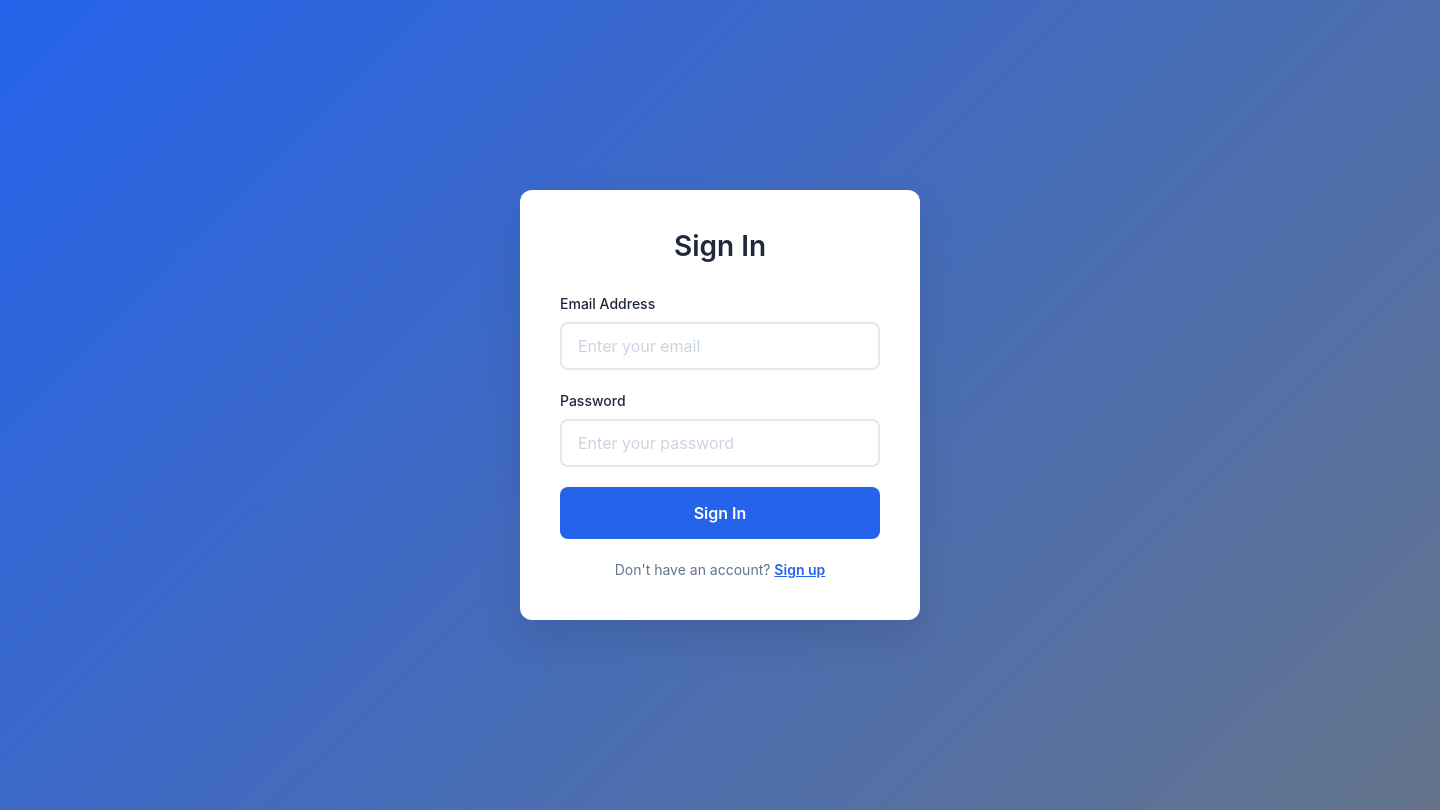
Test case: LoginPage › validates password strength on registration
Switch to register mode
Click the button "Sign up" at point(800, 570), box [774,561,825,578]
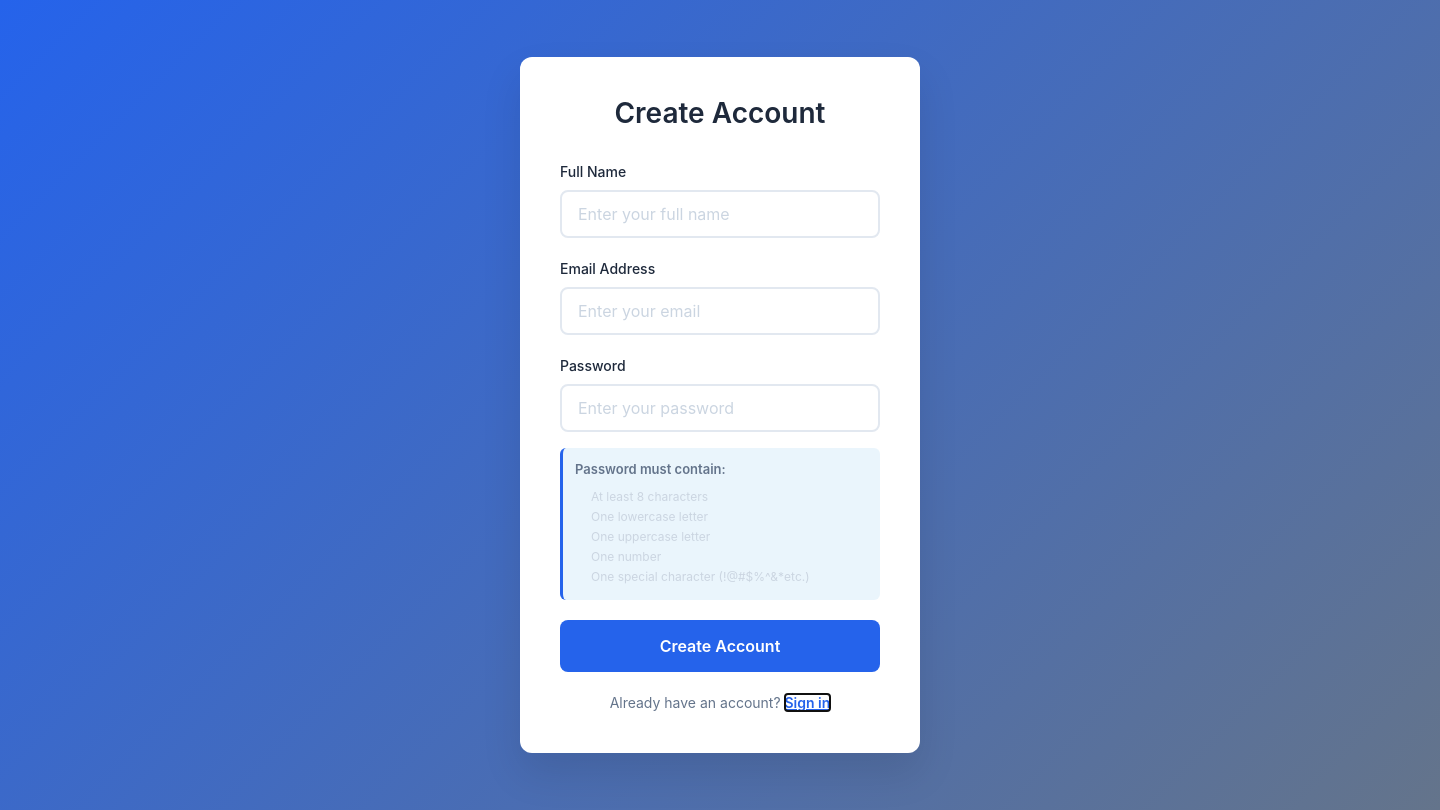
Type "John Doe" into the field labelled "Full Name" at point(720, 214), box [560,190,880,238]
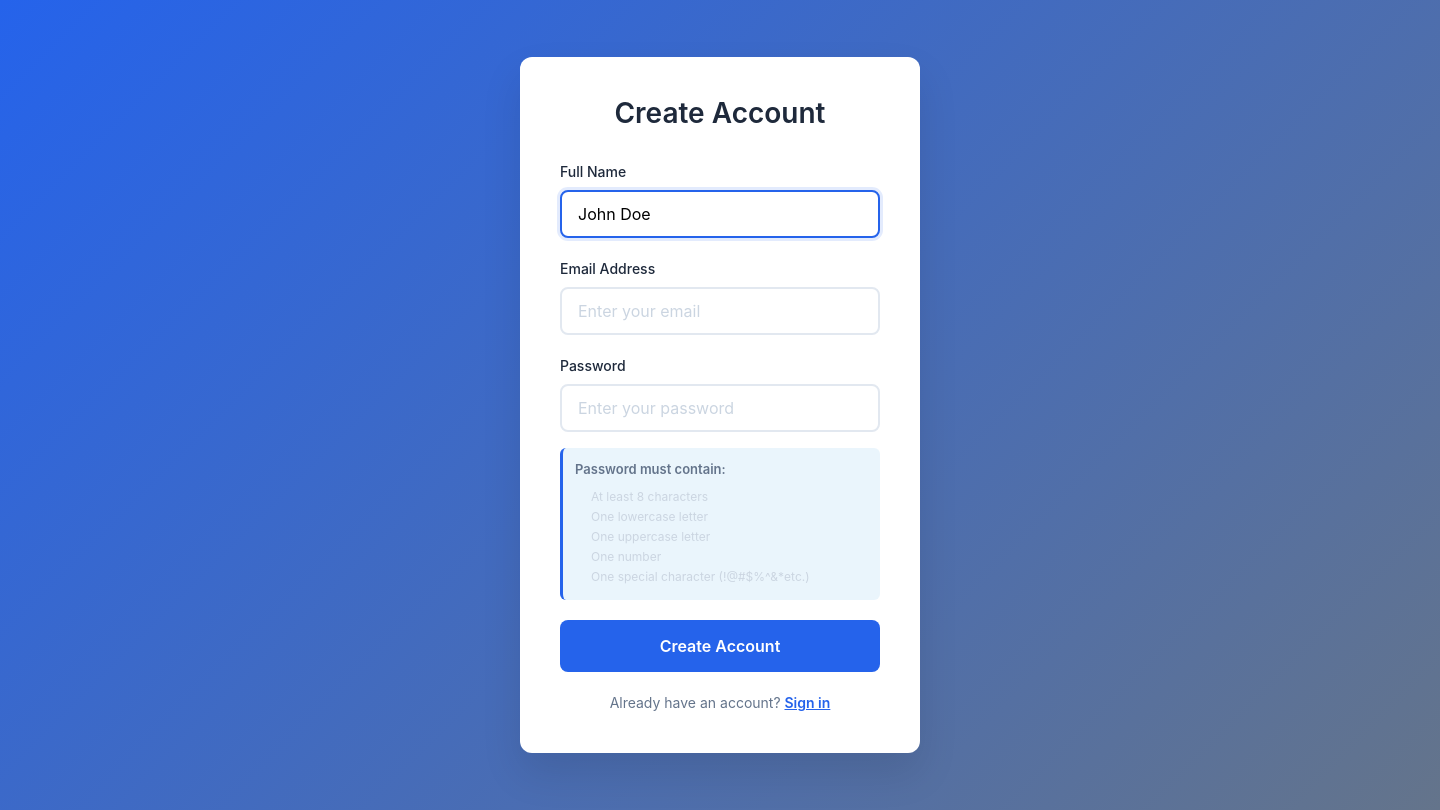
Type "john@example.com" into the field labelled "Email Address" at point(720, 311), box [560,287,880,335]
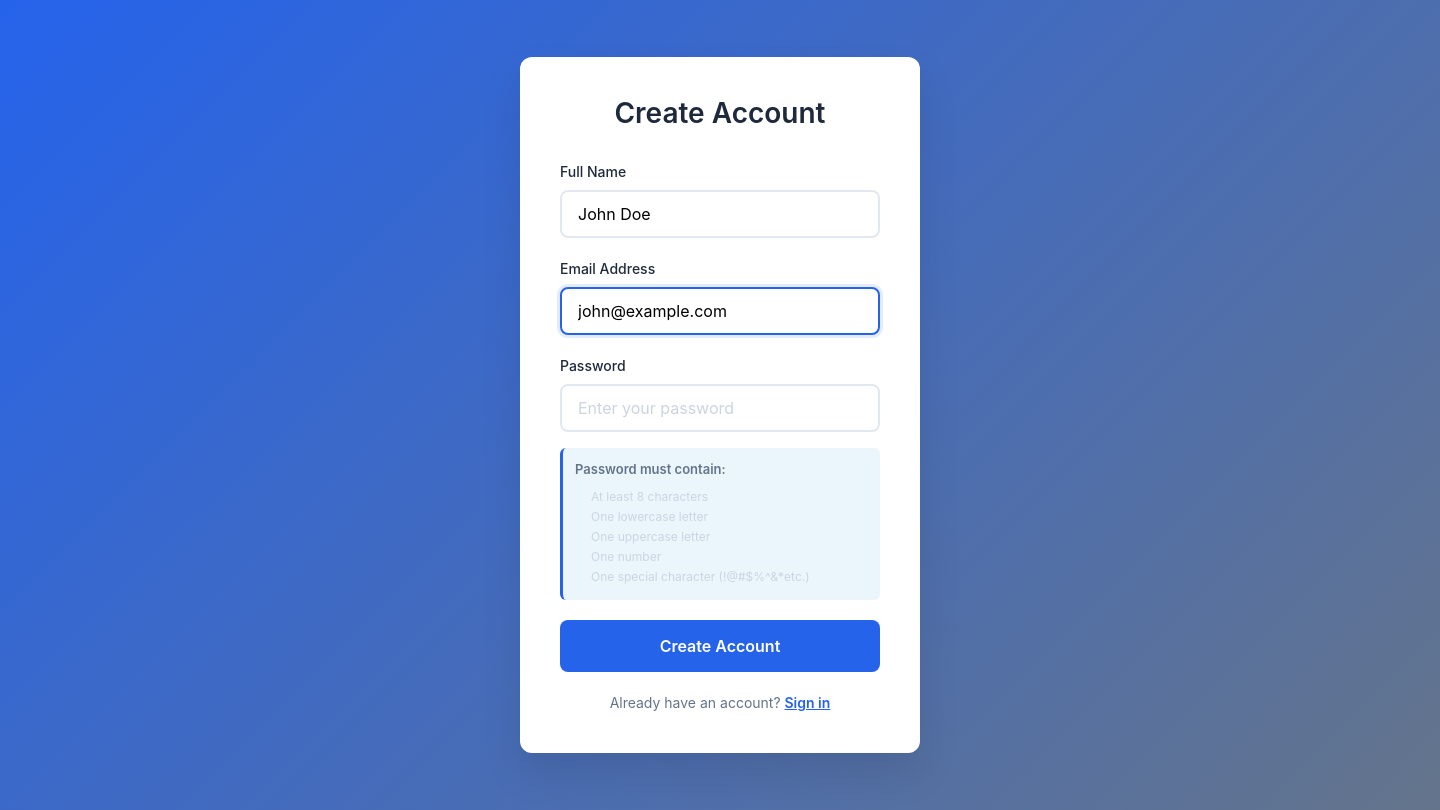
Type "weak" into the password field labelled "Password" at point(720, 408), box [560,384,880,432]
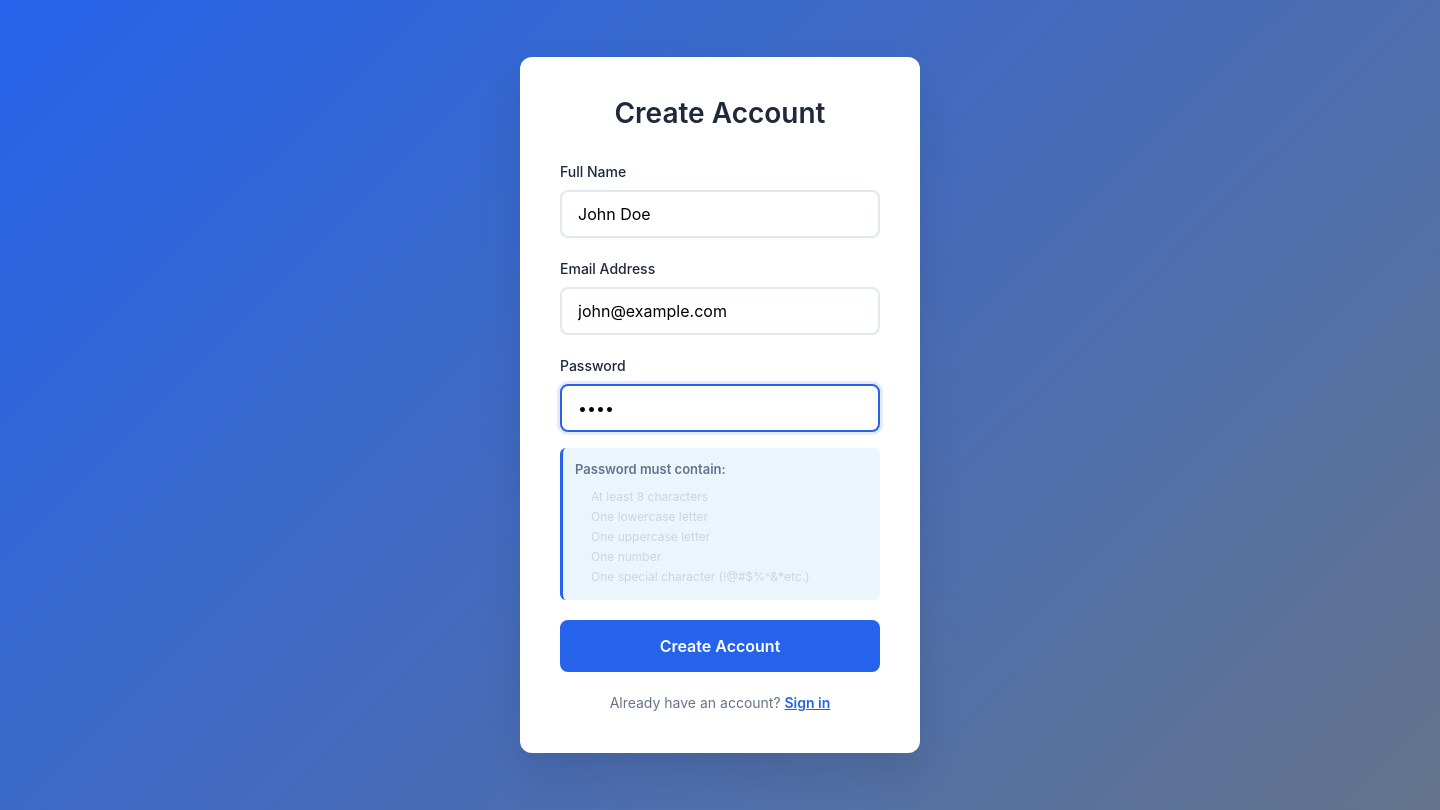
Click the button "Create Account" at point(720, 646), box [560,620,880,672]
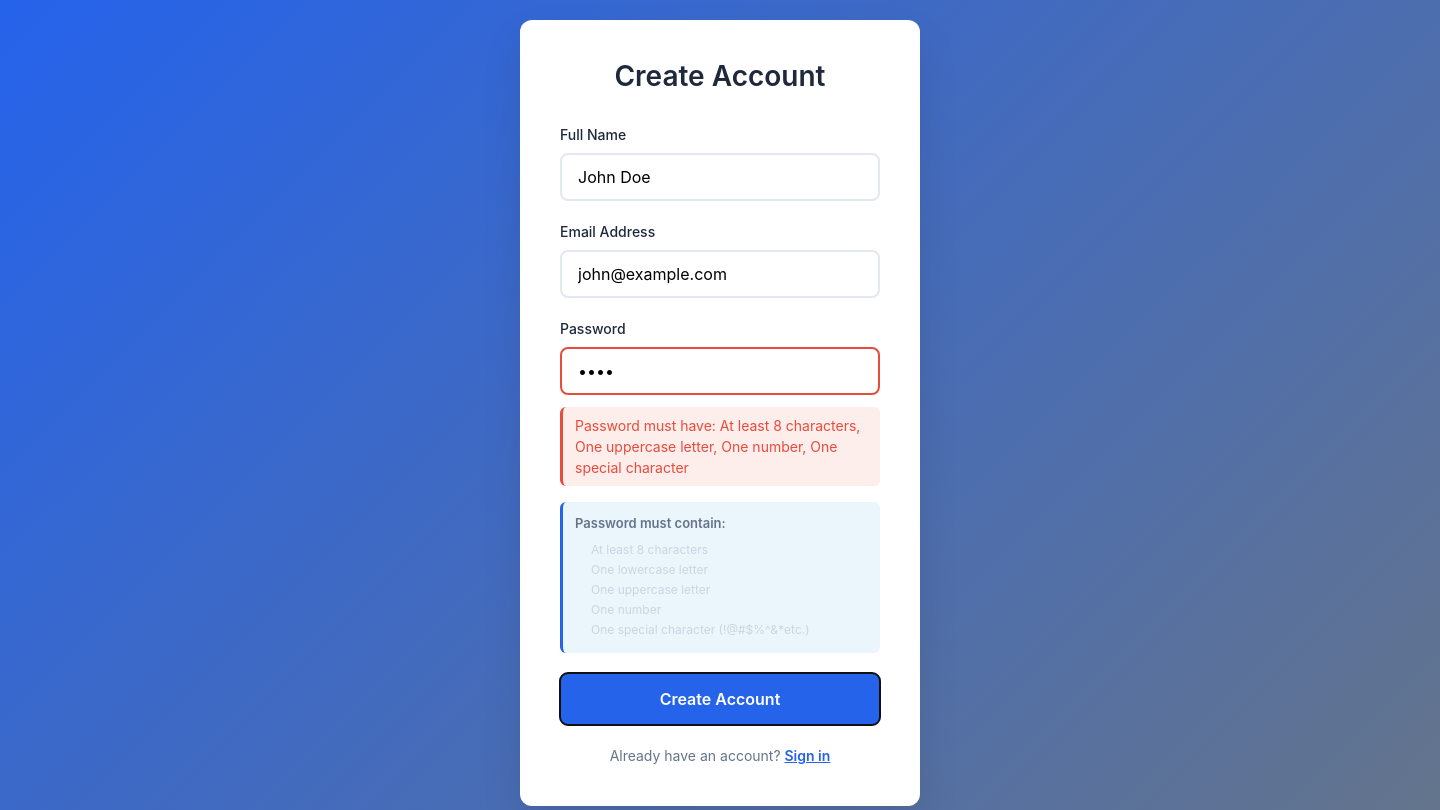
expect the text "Password must have:" is shown: met, box [575,417,860,476]
